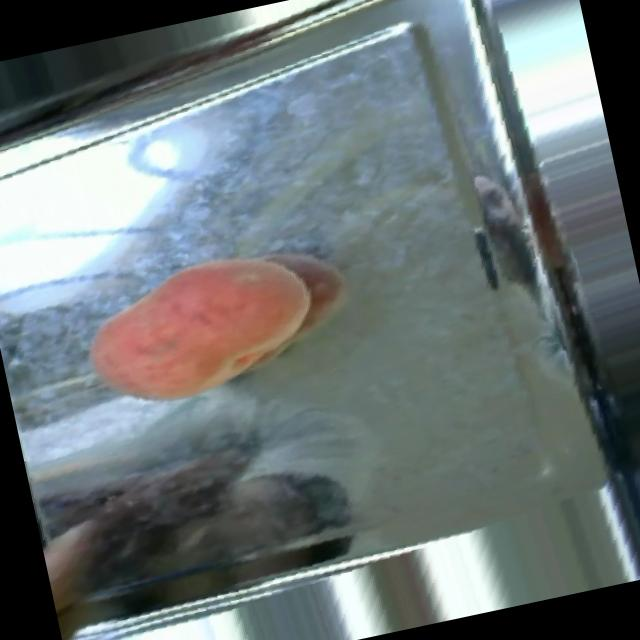Fruit: (59, 223, 339, 432)
